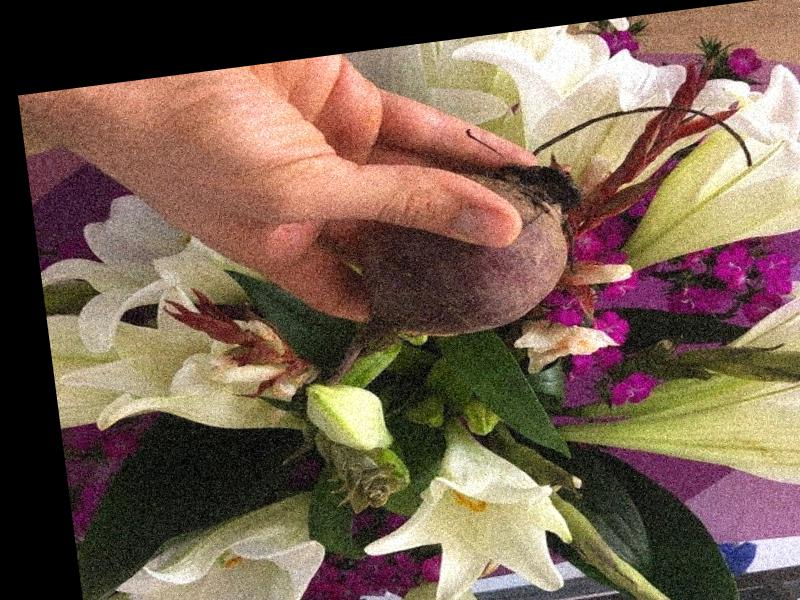Beet: (294, 157, 601, 389)
